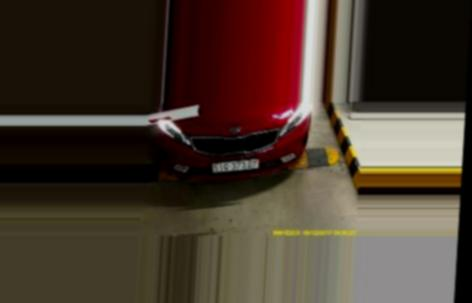License_Plate: (213, 157, 262, 174)
